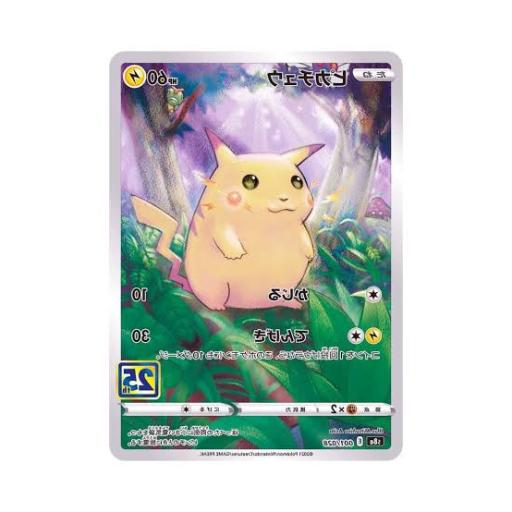Pikachu: (132, 127, 326, 311)
